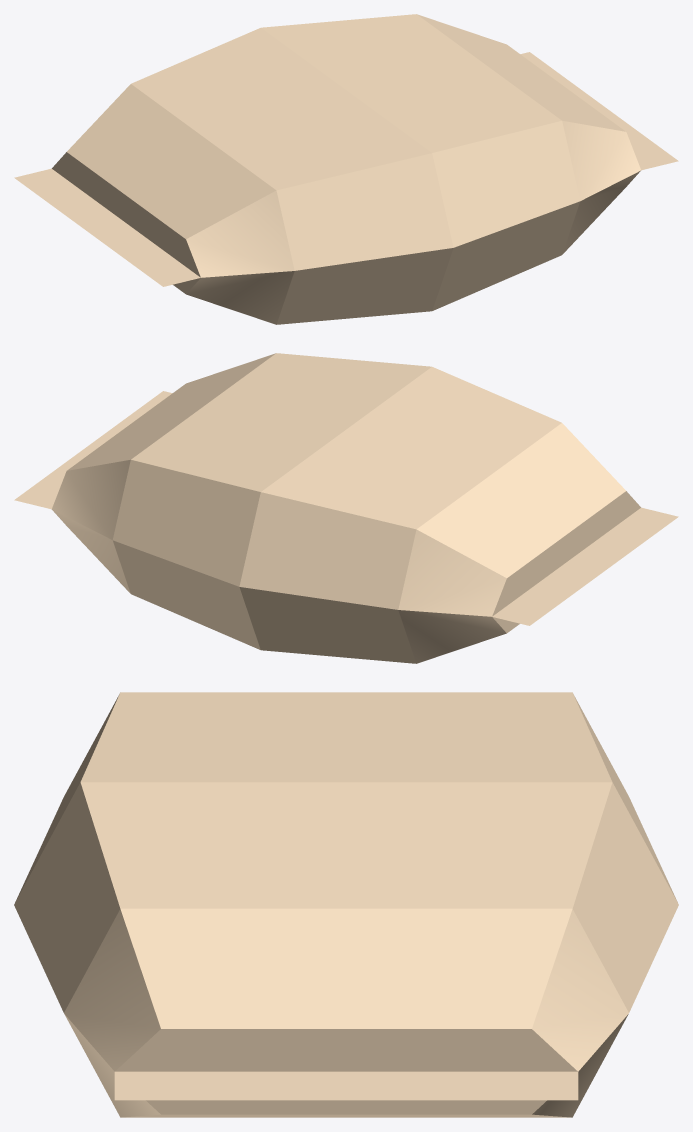
File: bagFlat.glb
The picture shows the model from 3 angles, top to bottom: view 1: azimuth 30°, elevation 25°; view 2: azimuth 150°, elevation 25°; view 3: azimuth 270°, elevation 25°; orthographic projection. The views are drawn at different scales.
Visible parts, largest first — view 1: bagFlat; view 2: bagFlat; view 3: bagFlat.
Part boxes in pixels (left/top/right/bottom): bagFlat: left=14, top=14, right=678, bottom=324; bagFlat: left=14, top=353, right=678, bottom=663; bagFlat: left=14, top=692, right=678, bottom=1117.
Size of the model in its own units: 0.65 by 0.1905 by 0.4675.
